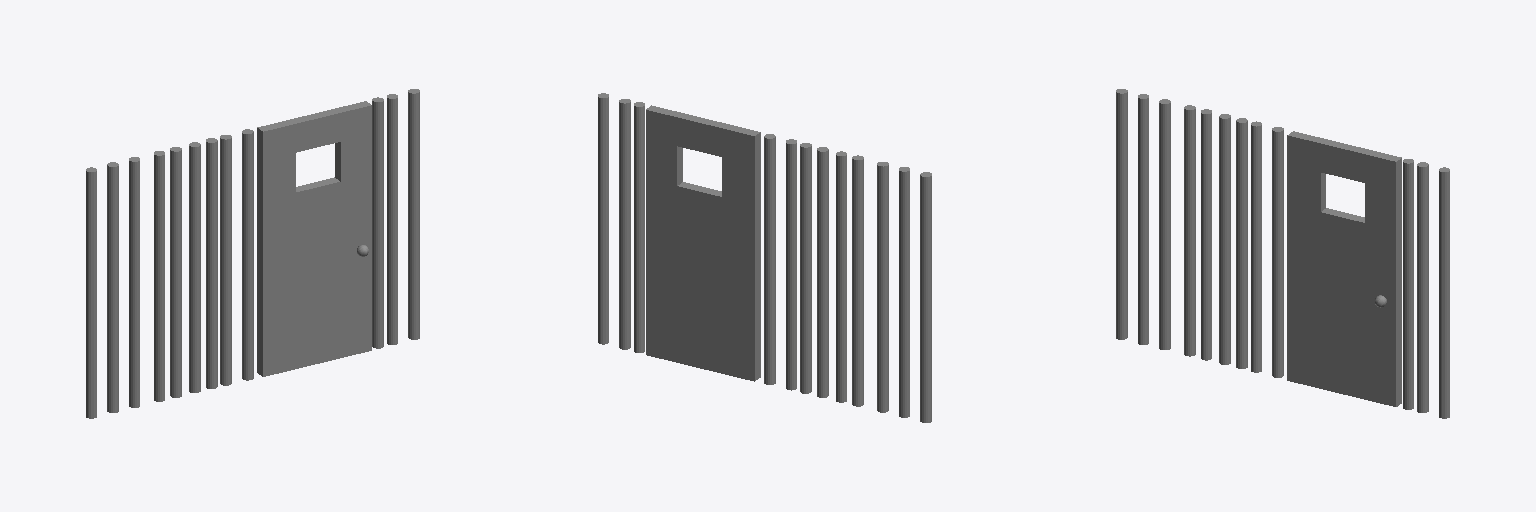
Rendered from BarnDoorText.obj.
3 renders of one model, left to right at view 1: azimuth 30°, elevation 25°; view 2: azimuth 150°, elevation 25°; view 3: azimuth 330°, elevation 25°, orthographic.
Visible parts, largest first — view 1: Box001, Cylinder005, Cylinder007, Cylinder010, Cylinder012, Cylinder004, Cylinder006, Cylinder002, Cylinder008, Cylinder001, Cylinder003, Cylinder009 (+1 smaller); view 2: Box001, Cylinder001, Cylinder009, Cylinder003, Cylinder005, Cylinder008, Cylinder006, Cylinder011, Cylinder007, Cylinder010, Cylinder002, Cylinder012 (+1 smaller); view 3: Box001, Cylinder001, Cylinder009, Cylinder003, Cylinder005, Cylinder008, Cylinder006, Cylinder011, Cylinder007, Cylinder010, Cylinder002, Cylinder012 (+1 smaller).
Part boxes in pixels (left/top/right/bottom): Box001: left=257, top=101, right=371, bottom=376; Cylinder005: left=242, top=129, right=253, bottom=380; Cylinder007: left=170, top=147, right=181, bottom=397; Cylinder010: left=408, top=89, right=419, bottom=339; Cylinder012: left=372, top=97, right=383, bottom=348; Cylinder004: left=220, top=135, right=231, bottom=385; Cylinder006: left=206, top=138, right=217, bottom=388; Cylinder002: left=107, top=162, right=118, bottom=412; Cylinder008: left=189, top=142, right=200, bottom=392; Cylinder001: left=86, top=167, right=96, bottom=418; Cylinder003: left=129, top=157, right=139, bottom=407; Cylinder009: left=154, top=151, right=164, bottom=401; Box001: left=646, top=105, right=760, bottom=381; Cylinder001: left=920, top=172, right=931, bottom=422; Cylinder009: left=852, top=155, right=863, bottom=406; Cylinder003: left=877, top=162, right=888, bottom=412; Cylinder005: left=764, top=134, right=775, bottom=384; Cylinder008: left=817, top=147, right=828, bottom=397; Cylinder006: left=800, top=143, right=811, bottom=393; Cylinder011: left=619, top=99, right=630, bottom=349; Cylinder007: left=836, top=151, right=846, bottom=402; Cylinder010: left=598, top=93, right=608, bottom=344; Cylinder002: left=899, top=167, right=909, bottom=417; Cylinder012: left=634, top=102, right=644, bottom=352; Box001: left=1287, top=131, right=1401, bottom=406; Cylinder001: left=1116, top=89, right=1127, bottom=339; Cylinder009: left=1184, top=105, right=1195, bottom=356; Cylinder003: left=1159, top=99, right=1170, bottom=349; Cylinder005: left=1272, top=127, right=1283, bottom=377; Cylinder008: left=1219, top=114, right=1230, bottom=364; Cylinder006: left=1236, top=118, right=1247, bottom=368; Cylinder011: left=1417, top=162, right=1428, bottom=412; Cylinder007: left=1201, top=109, right=1211, bottom=360; Cylinder010: left=1439, top=167, right=1449, bottom=418; Cylinder002: left=1138, top=94, right=1148, bottom=344; Cylinder012: left=1403, top=159, right=1413, bottom=409.
Bounding box in the file's own units: 97.53 × 68.93 × 6.2.